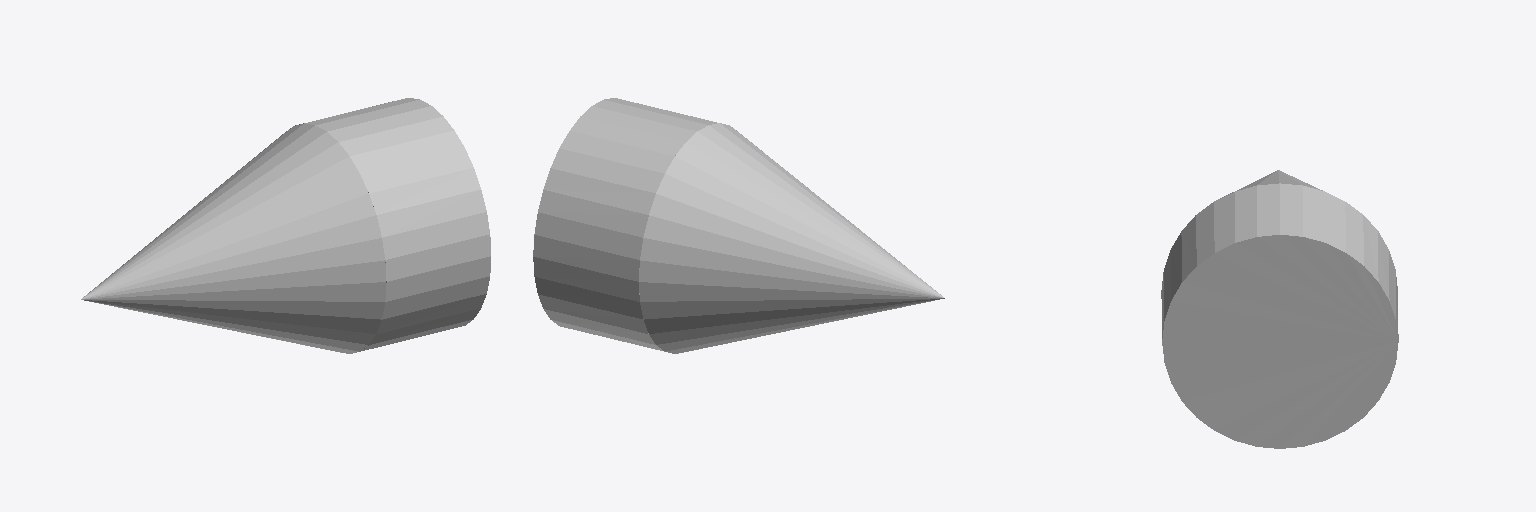
The model's file is rear_cone.obj.
3 views of the same model, side by side, from view 1: azimuth 30°, elevation 25°; view 2: azimuth 150°, elevation 25°; view 3: azimuth 270°, elevation 25° (orthographic).
Parts seen in each view (by area): view 1: rear_cone_Cone_None; view 2: rear_cone_Cone_None; view 3: rear_cone_Cone_None.
Part boxes in pixels (x1,y1,x2,y2): rear_cone_Cone_None: (81, 98, 490, 353); rear_cone_Cone_None: (533, 98, 944, 353); rear_cone_Cone_None: (1161, 170, 1398, 448).
Bounding box in the file's own units: 0.0017 × 0.001 × 0.001.